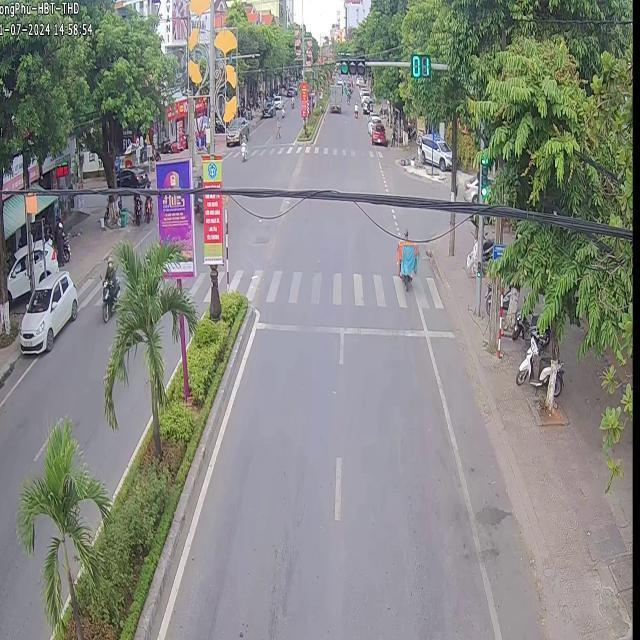car: (17, 269, 76, 351)
green_light: (339, 59, 367, 77), (411, 54, 431, 78), (478, 158, 487, 198)
motobike: (394, 229, 417, 289), (100, 256, 118, 320)
stop_line: (253, 317, 453, 337)
